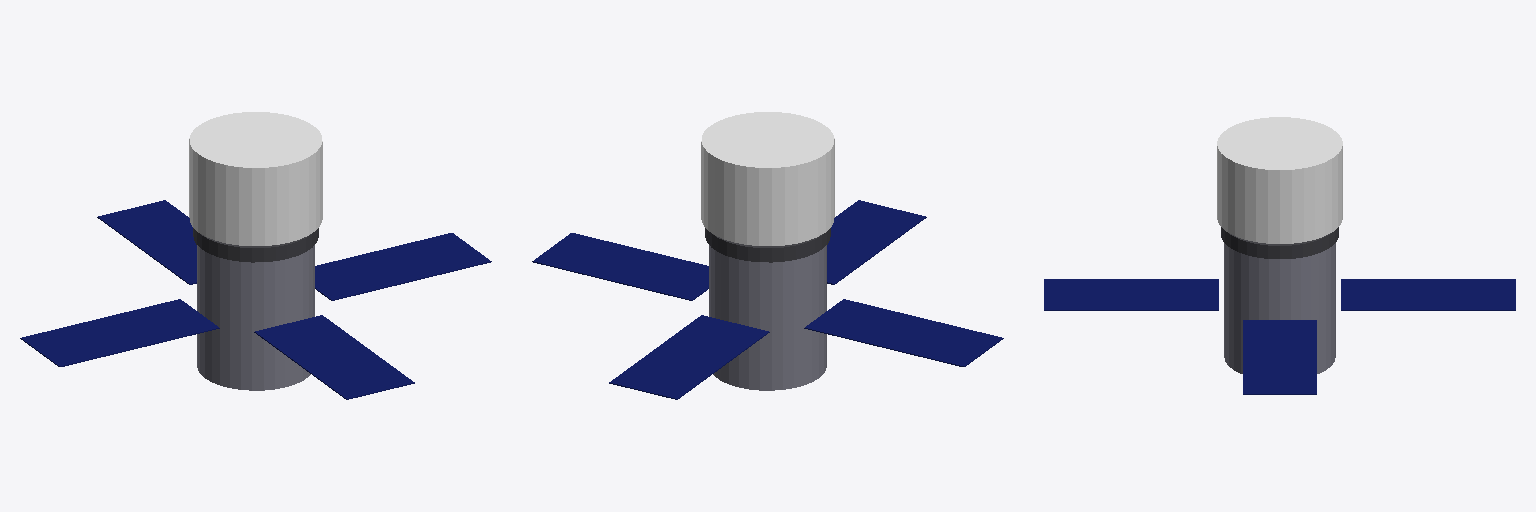
URDF robot description (orion):
<?xml version="1.0"?>
<!--
  Stylized Orion (Artemis II) URDF, primitives only.

  *** This URDF is visually exaggerated by ~666,667x *** so the spacecraft
  is legible at the layout's default 30,000 km camera distance. At true scale
  Orion is ~9 m tall and ~14 m wingspan; at default zoom that's ~0.0002 of a
  pixel. We draw the spacecraft as a "map icon" instead: ~6 Mm tall, ~13 Mm
  wingspan — about Earth-radius for the body, ~2x Earth-radius wingspan.
  Same convention as Hank's artemistimeline.com viewer and Foxglove's
  position arrow. Real proportions are preserved.

  Real-scale reference (the values the URDF would have at 1x scale):
      Crew Module (CM):     ~5.0 m diameter,   ~3.3 m tall    (blunt cone)
      Service Module (SM):  ~5.0 m diameter,   ~5.5 m tall    (cylinder)
      Solar arrays (x4):    ~7 m x 3 m panels, ~19 m wingspan

  The root link is named `orion` so Foxglove's URDF layer anchors it to the
  same TF frame the trajectory transforms publish (`earth -> orion`). All
  child links are pure visual primitives; no kinematic chain.

  Material colors are inlined inside every `<visual>` block on purpose:
  Foxglove's URDF parser (app/packages/den/urdf/parser.ts) does not resolve
  top-level `<material name="X"/>` references by name. Top-level material
  declarations get parsed and stored, but per-visual `<material name="X"/>`
  references resolve to a material with no color (fallback applies). Inlining
  the `<color>` element makes us explicit and parser-agnostic.

  Conventions: +Z up, +X forward, +Y to port.
-->
<robot name="orion">

  <!-- Root link: this is the `orion` frame as far as the renderer is concerned. -->
  <link name="orion">
    <visual>
      <!-- Crew Module: blunt cone (URDF has no cone primitive, use a short
           cylinder; close enough at viewing scale). Centred ~+3,700 km above
           the orion origin so the SM hangs below. -->
      <origin xyz="0 0 3700000" rpy="0 0 0"/>
      <geometry><cylinder length="2200000" radius="1700000"/></geometry>
      <material name="cm_white">
        <color rgba="0.95 0.95 0.95 1.0"/>
      </material>
    </visual>
  </link>

  <!-- Adapter / fairing between CM and SM -->
  <joint name="cm_to_adapter" type="fixed">
    <parent link="orion"/>
    <child link="cm_sm_adapter"/>
    <origin xyz="0 0 2300000" rpy="0 0 0"/>
  </joint>
  <link name="cm_sm_adapter">
    <visual>
      <origin xyz="0 0 0" rpy="0 0 0"/>
      <geometry><cylinder length="400000" radius="1600000"/></geometry>
      <material name="adapter_grey">
        <color rgba="0.30 0.30 0.32 1.0"/>
      </material>
    </visual>
  </link>

  <!-- Service Module -->
  <joint name="adapter_to_sm" type="fixed">
    <parent link="cm_sm_adapter"/>
    <child link="service_module"/>
    <origin xyz="0 0 -2000000" rpy="0 0 0"/>
  </joint>
  <link name="service_module">
    <visual>
      <origin xyz="0 0 0" rpy="0 0 0"/>
      <geometry><cylinder length="3700000" radius="1500000"/></geometry>
      <material name="sm_grey">
        <color rgba="0.55 0.55 0.60 1.0"/>
      </material>
    </visual>
  </link>

  <!-- Solar Array, +Y (port) -->
  <joint name="sm_to_panel_py" type="fixed">
    <parent link="service_module"/>
    <child link="solar_panel_py"/>
    <origin xyz="0 4000000 0" rpy="0 0 0"/>
  </joint>
  <link name="solar_panel_py">
    <visual>
      <origin xyz="0 0 0"/>
      <geometry><box size="2000000 4700000 30000"/></geometry>
      <material name="solar_blue">
        <color rgba="0.10 0.15 0.45 1.0"/>
      </material>
    </visual>
  </link>

  <!-- Solar Array, -Y (starboard) -->
  <joint name="sm_to_panel_my" type="fixed">
    <parent link="service_module"/>
    <child link="solar_panel_my"/>
    <origin xyz="0 -4000000 0" rpy="0 0 0"/>
  </joint>
  <link name="solar_panel_my">
    <visual>
      <origin xyz="0 0 0"/>
      <geometry><box size="2000000 4700000 30000"/></geometry>
      <material name="solar_blue">
        <color rgba="0.10 0.15 0.45 1.0"/>
      </material>
    </visual>
  </link>

  <!-- Solar Array, +X (forward) -->
  <joint name="sm_to_panel_px" type="fixed">
    <parent link="service_module"/>
    <child link="solar_panel_px"/>
    <origin xyz="4000000 0 0" rpy="0 0 0"/>
  </joint>
  <link name="solar_panel_px">
    <visual>
      <origin xyz="0 0 0"/>
      <geometry><box size="4700000 2000000 30000"/></geometry>
      <material name="solar_blue">
        <color rgba="0.10 0.15 0.45 1.0"/>
      </material>
    </visual>
  </link>

  <!-- Solar Array, -X (aft) -->
  <joint name="sm_to_panel_mx" type="fixed">
    <parent link="service_module"/>
    <child link="solar_panel_mx"/>
    <origin xyz="-4000000 0 0" rpy="0 0 0"/>
  </joint>
  <link name="solar_panel_mx">
    <visual>
      <origin xyz="0 0 0"/>
      <geometry><box size="4700000 2000000 30000"/></geometry>
      <material name="solar_blue">
        <color rgba="0.10 0.15 0.45 1.0"/>
      </material>
    </visual>
  </link>

</robot>

--- What the picture shows (computed from the rendered views, not written in the file) ---
3 views of the same robot in one strip: view 1: azimuth 30°, elevation 25°; view 2: azimuth 150°, elevation 25°; view 3: azimuth 270°, elevation 25° (orthographic).
Robot: orion — 7 links, 6 joints (6 fixed); root link orion; default pose: all joints at 0.
Links seen in each view (by area): view 1: orion, service_module, solar_panel_mx, solar_panel_my, solar_panel_px, solar_panel_py, cm_sm_adapter; view 2: orion, service_module, solar_panel_mx, solar_panel_py, solar_panel_px, solar_panel_my, cm_sm_adapter; view 3: orion, service_module, solar_panel_py, solar_panel_my, solar_panel_px, cm_sm_adapter.
Link boxes in pixels (x1=…): orion: x1=189, y1=112, x2=322, y2=245; service_module: x1=197, y1=245, x2=314, y2=390; solar_panel_mx: x1=20, y1=299, x2=219, y2=366; solar_panel_my: x1=254, y1=315, x2=414, y2=399; solar_panel_px: x1=315, y1=233, x2=491, y2=300; solar_panel_py: x1=97, y1=200, x2=196, y2=284; cm_sm_adapter: x1=193, y1=228, x2=318, y2=262; orion: x1=701, y1=112, x2=834, y2=245; service_module: x1=709, y1=245, x2=826, y2=390; solar_panel_mx: x1=804, y1=299, x2=1003, y2=366; solar_panel_py: x1=609, y1=315, x2=769, y2=399; solar_panel_px: x1=532, y1=233, x2=708, y2=300; solar_panel_my: x1=827, y1=200, x2=926, y2=284; cm_sm_adapter: x1=705, y1=228, x2=830, y2=262; orion: x1=1217, y1=117, x2=1342, y2=243; service_module: x1=1224, y1=243, x2=1335, y2=373; solar_panel_py: x1=1341, y1=279, x2=1515, y2=310; solar_panel_my: x1=1044, y1=279, x2=1218, y2=310; solar_panel_px: x1=1243, y1=320, x2=1316, y2=394; cm_sm_adapter: x1=1221, y1=227, x2=1338, y2=258.
Size in the robot's own frame: 12700000 by 12700000 by 6350000 metres.
Geometry: primitives only (box / cylinder / sphere), no mesh files.
